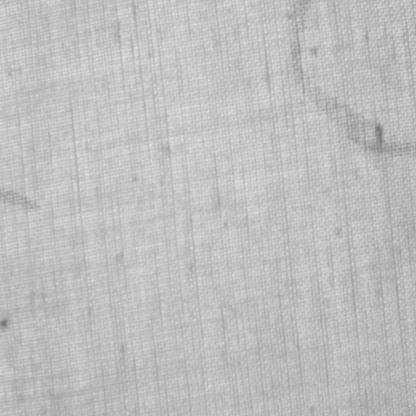oil spot: (280, 0, 416, 159), (0, 182, 44, 214)
